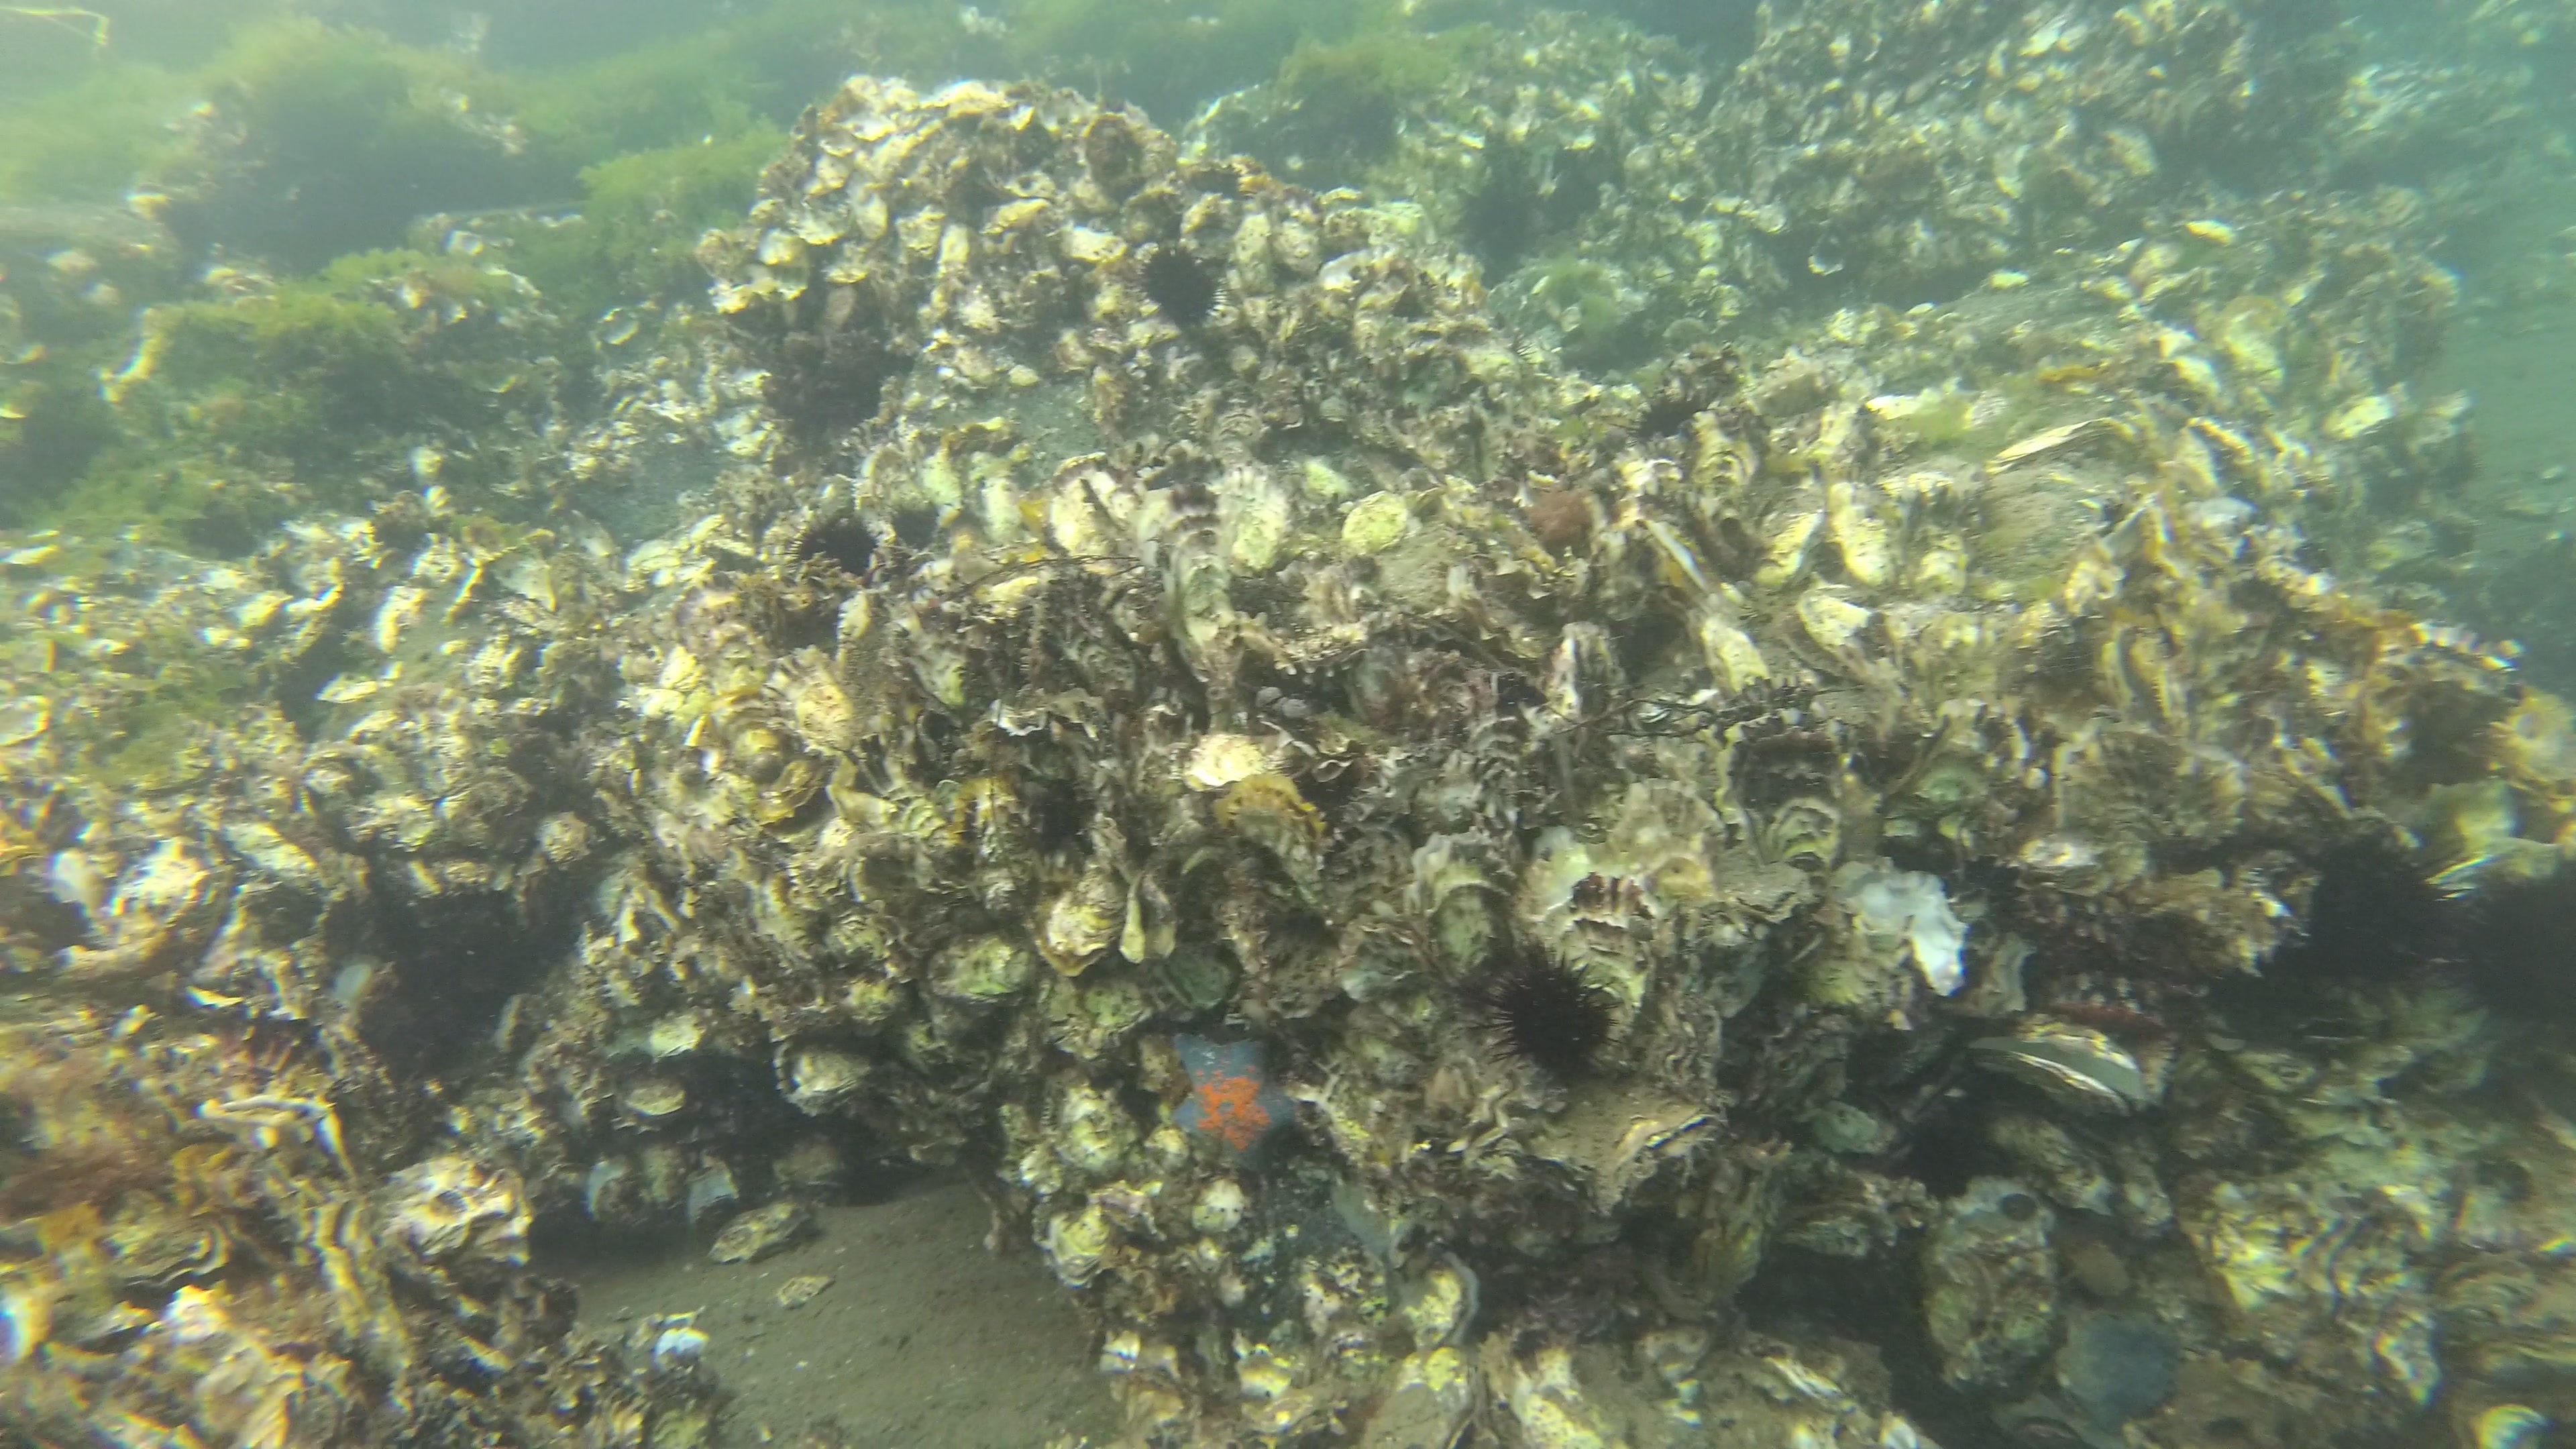echinus: (1472, 938, 1626, 1088), (1134, 242, 1233, 333), (786, 508, 879, 586)
starfish: (1164, 1028, 1304, 1173)
